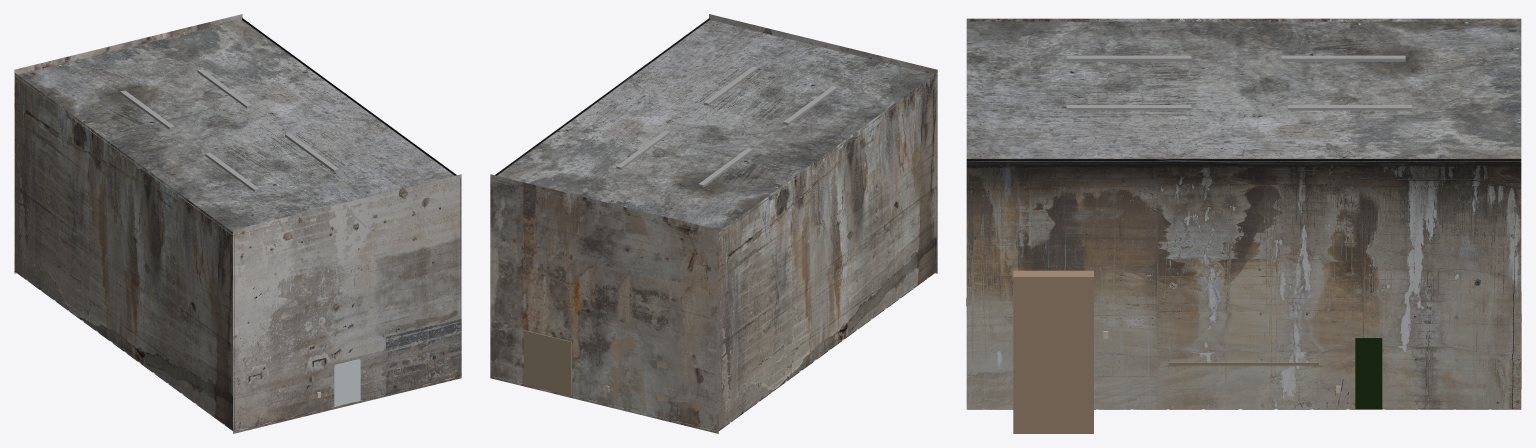
Rendered from Room2.fbx.
3 views of the same model, side by side, from view 1: azimuth 30°, elevation 25°; view 2: azimuth 150°, elevation 25°; view 3: azimuth 270°, elevation 25° (orthographic). The views are drawn at different scales.
Visible parts, largest first — view 1: Ceiling, RightWall, BackWall, LeftWall, pCube50, FrontWall, Floor1; view 2: Ceiling, LeftWall, BackWall, RightWall, pCube65, pCube66, pCube67, FrontWall, Floor1; view 3: FrontWall, Ceiling, pCube77, pCube88 (×4), BackWall, pCube68, WallTable.
Boxes of the visible parts, bbox=[...] form: Ceiling: bbox=[14, 20, 461, 235]; RightWall: bbox=[233, 174, 461, 433]; BackWall: bbox=[15, 73, 234, 430]; LeftWall: bbox=[14, 14, 242, 273]; pCube50: bbox=[334, 359, 360, 406]; FrontWall: bbox=[242, 18, 460, 375]; Floor1: bbox=[14, 271, 461, 431]; Ceiling: bbox=[491, 20, 937, 235]; LeftWall: bbox=[490, 174, 718, 433]; BackWall: bbox=[717, 73, 936, 430]; RightWall: bbox=[709, 14, 937, 273]; pCube65: bbox=[555, 338, 571, 395]; pCube66: bbox=[539, 334, 555, 391]; pCube67: bbox=[523, 330, 539, 388]; FrontWall: bbox=[495, 18, 709, 175]; Floor1: bbox=[491, 271, 936, 431]; FrontWall: bbox=[966, 158, 1521, 408]; Ceiling: bbox=[966, 21, 1521, 161]; pCube77: bbox=[1013, 270, 1093, 433]; pCube88 (×4): bbox=[1066, 55, 1411, 110]; BackWall: bbox=[966, 18, 1521, 21]; pCube68: bbox=[1355, 338, 1382, 409]; WallTable: bbox=[1168, 362, 1318, 365].
Bounding box in the file's own units: 6.25 × 5.44 × 10.01.
